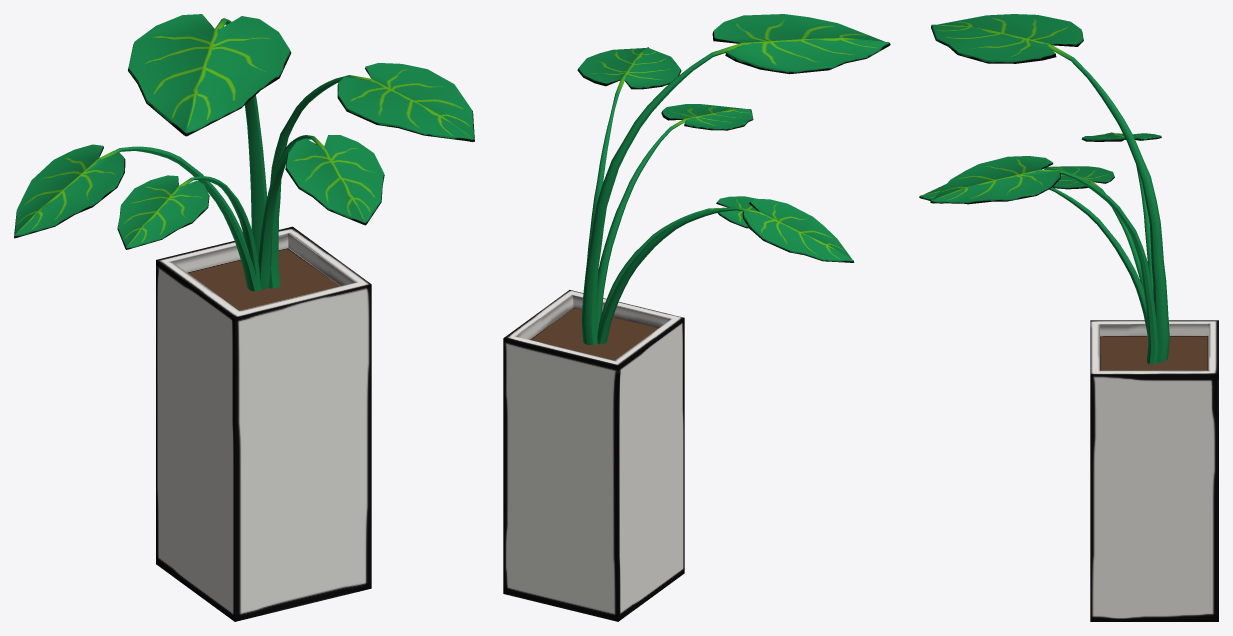
File: flowerpot.FBX
3 views of the same model, side by side, from view 1: azimuth 30°, elevation 25°; view 2: azimuth 150°, elevation 25°; view 3: azimuth 270°, elevation 25° (orthographic). The views are drawn at different scales.
Visible parts, largest first — view 1: vase; view 2: vase; view 3: vase.
Boxes of the visible parts, x1,y1,x2,y2 form: vase: [14, 14, 474, 621]; vase: [503, 14, 890, 621]; vase: [919, 14, 1218, 621].
Bounding box in the file's own units: 27.34 × 43.03 × 22.97.
